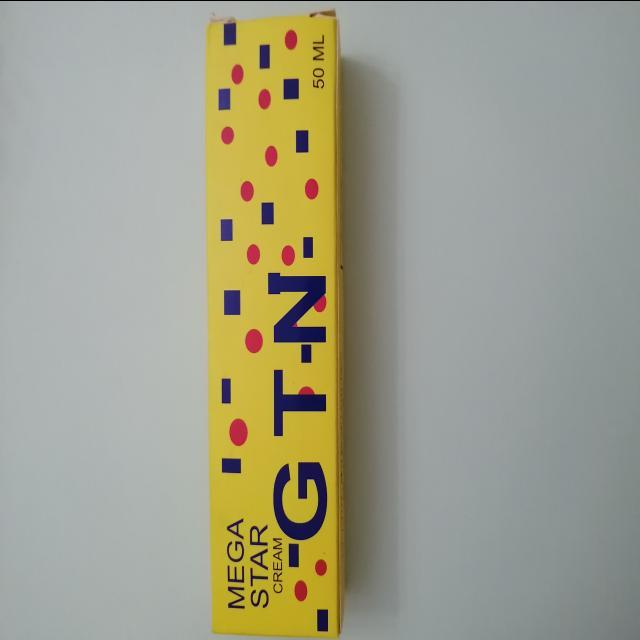Medicine Name: (263, 256, 337, 540)
